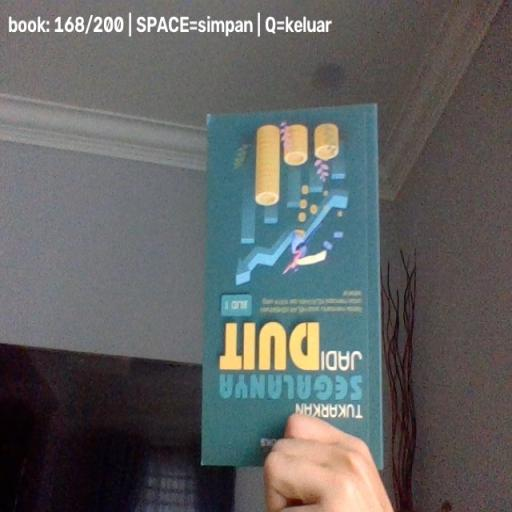Book: (200, 104, 382, 468)
